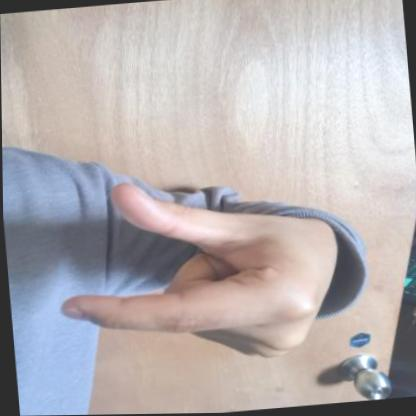G: (25, 157, 353, 386)
